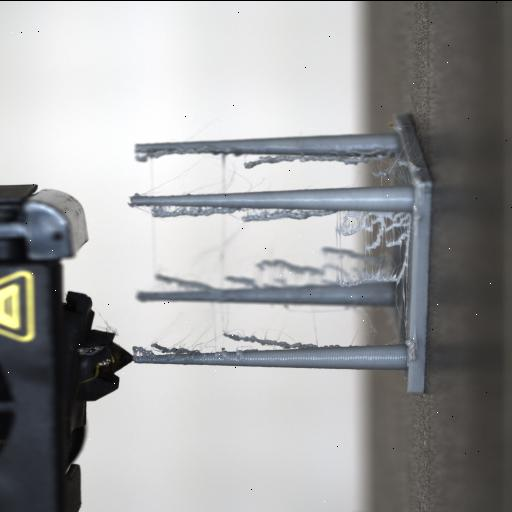stringing: (138, 157, 406, 353)
